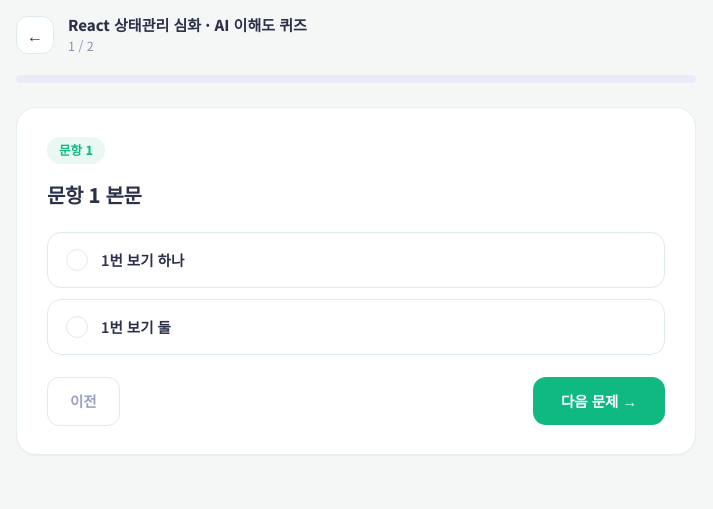
Scenario: QuizScreen › 제출이 실패하면 이유를 알리고 답안을 그대로 둔다
Click the button "1번 보기 하나" at point(143, 260), box [47, 232, 665, 288]
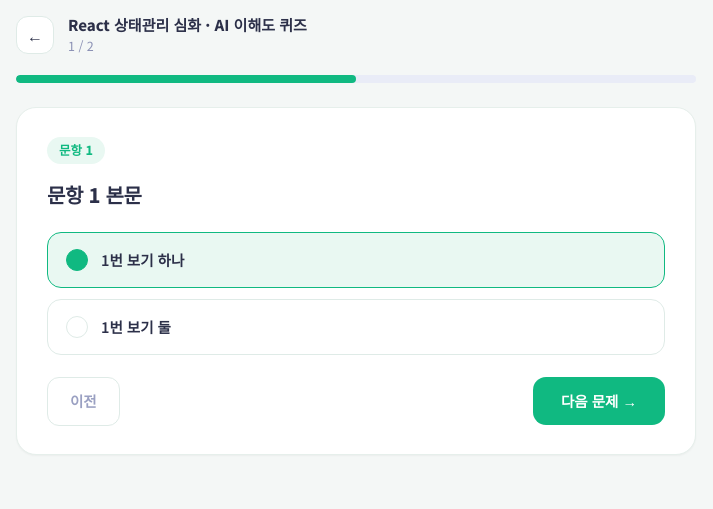
Click the button "다음 문제 →" at point(599, 401), box [533, 377, 665, 425]
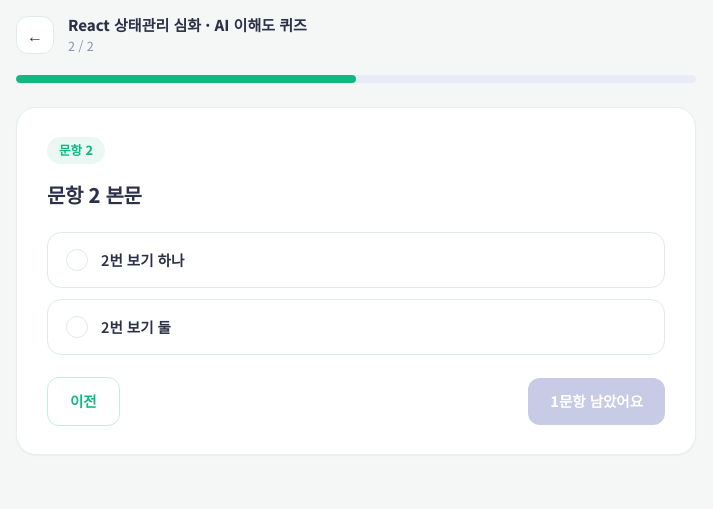
Click the button "2번 보기 하나" at point(143, 260), box [47, 232, 665, 288]
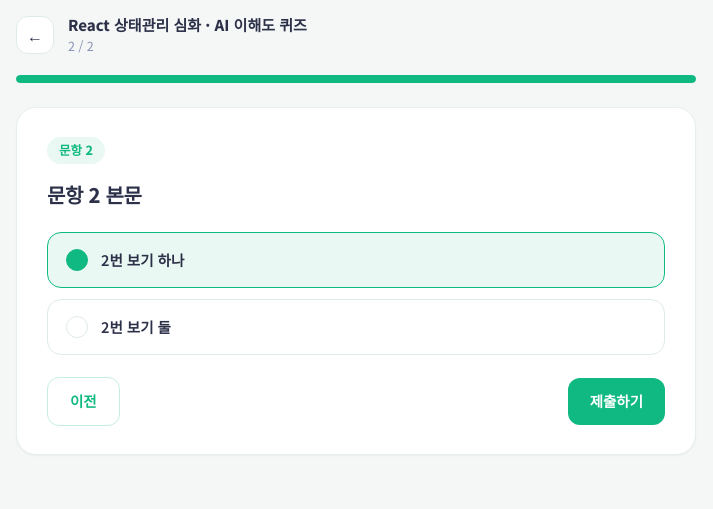
Click the button "제출하기" at point(616, 401), box [568, 378, 665, 425]
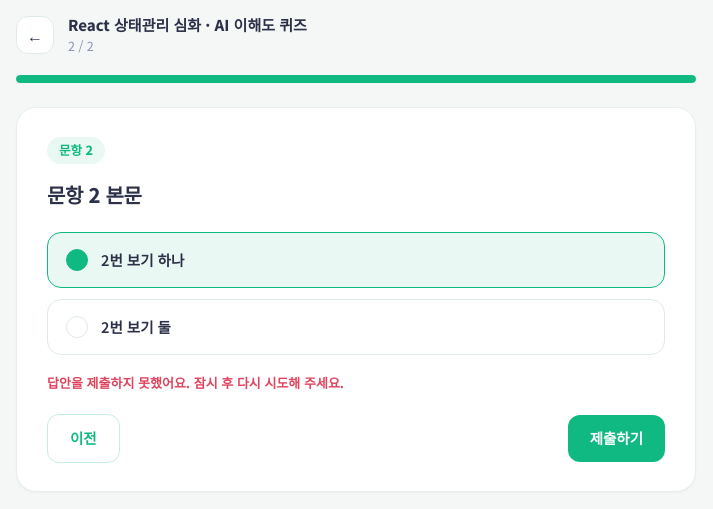
Result: the text "답안을 제출하지 못했어요. 잠시 후 다시 시도해 주세요." is shown at [47, 373, 344, 392]
